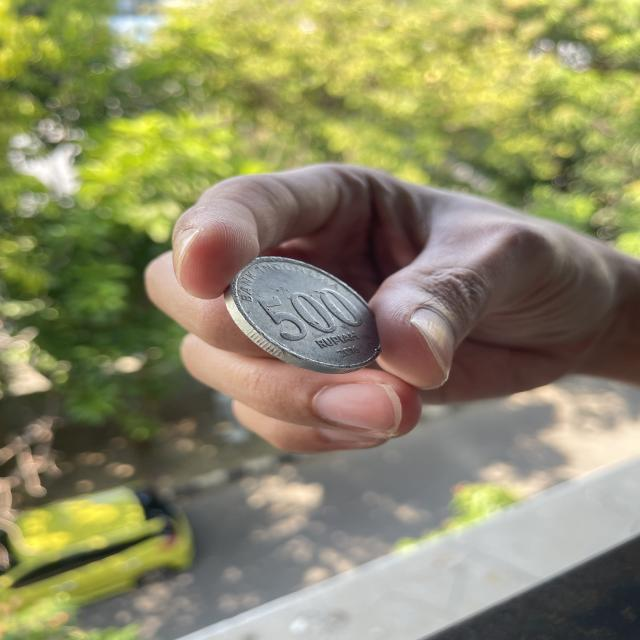500-kuning: (225, 256, 380, 374)
